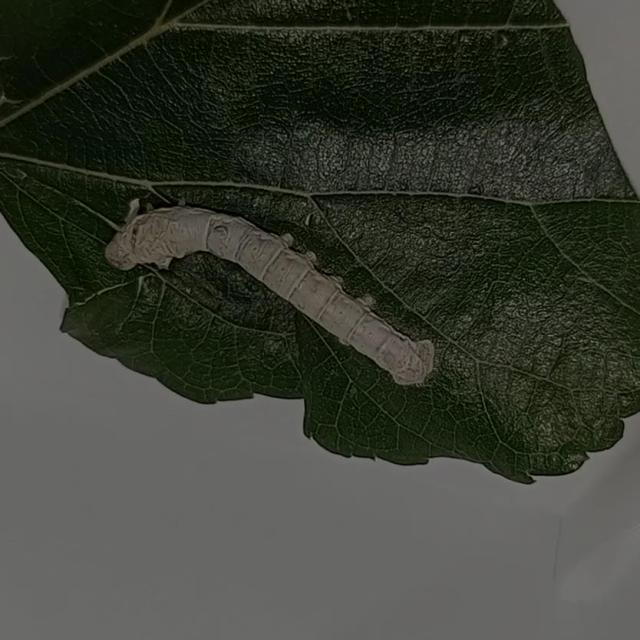Healthy: (102, 188, 442, 400)
